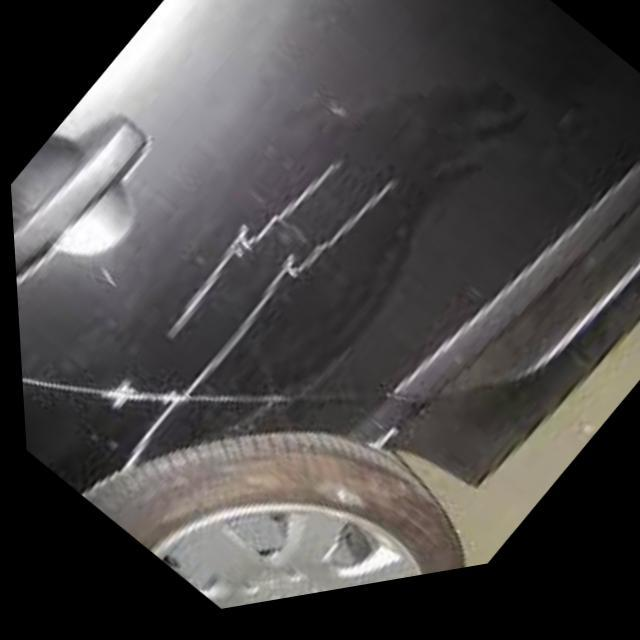rub: (117, 164, 407, 472)
